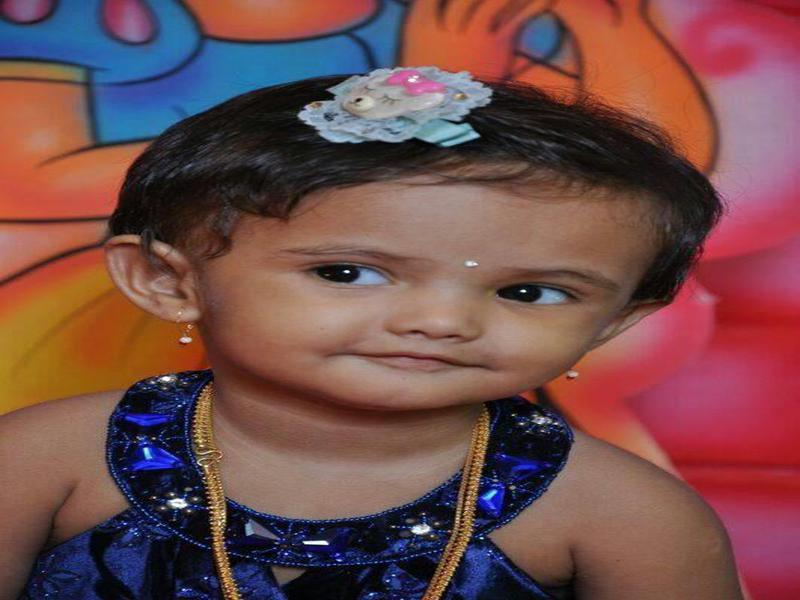without_mask: (202, 144, 623, 436)
